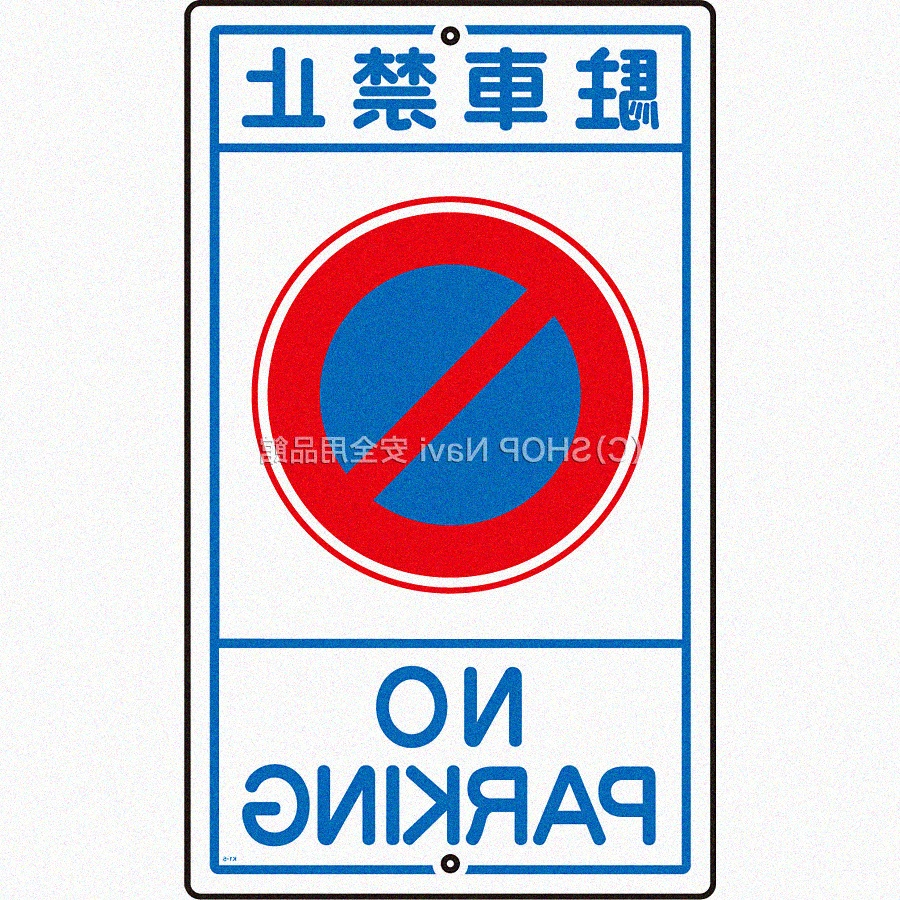Prohibition_sign: (245, 179, 652, 599)
